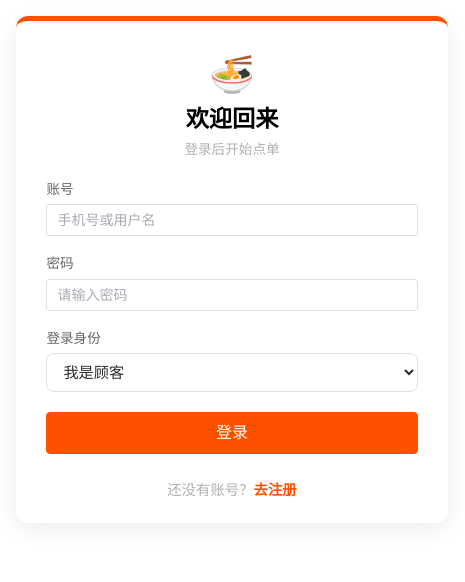
Test: FR-002 登录页 › 登录失败时展示后端错误信息
The width and height of the screenshot is (465, 582).
Type "13800138000" into the field with test id "login-account" at (232, 220), box [57,205,407,235]
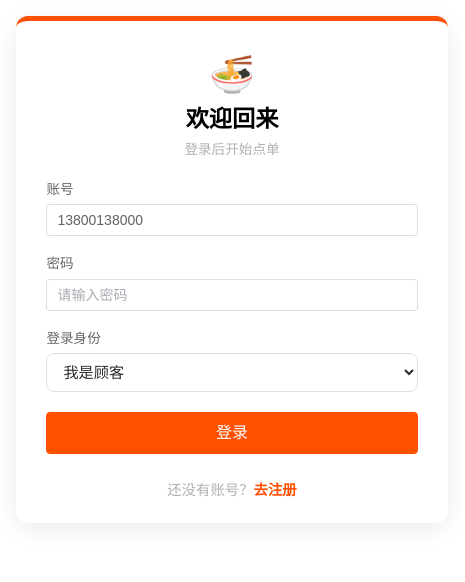
Type "abc123" into the password field with test id "login-password" at (232, 295), box [57,280,407,310]
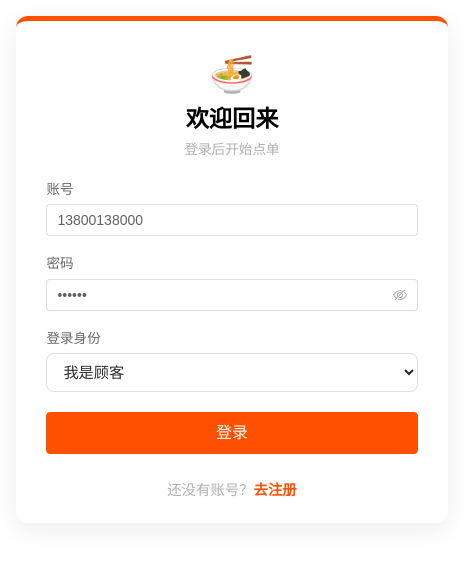
Click the button with test id "login-submit" at (232, 433), box [46,412,418,454]
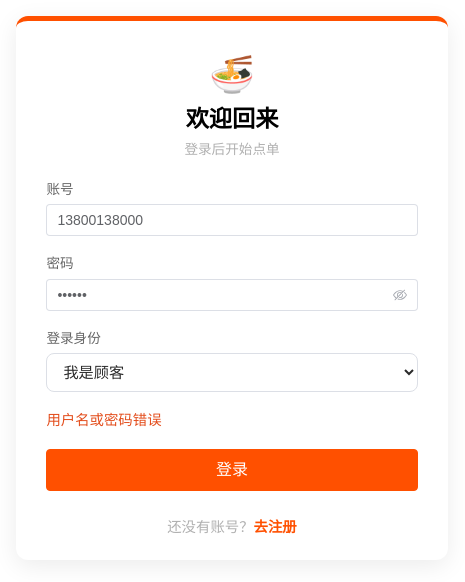
Expected: the message with test id "login-error" reads "用户名或密码错误", [46,412,162,428]
